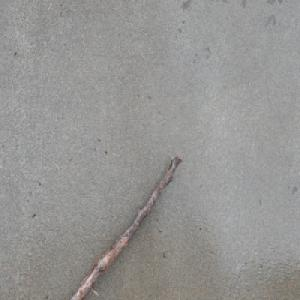Wood: (65, 153, 183, 300)
